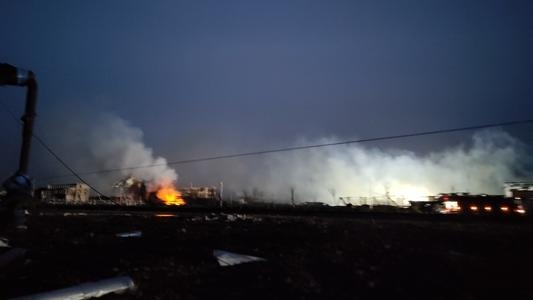fire: (157, 182, 185, 205)
